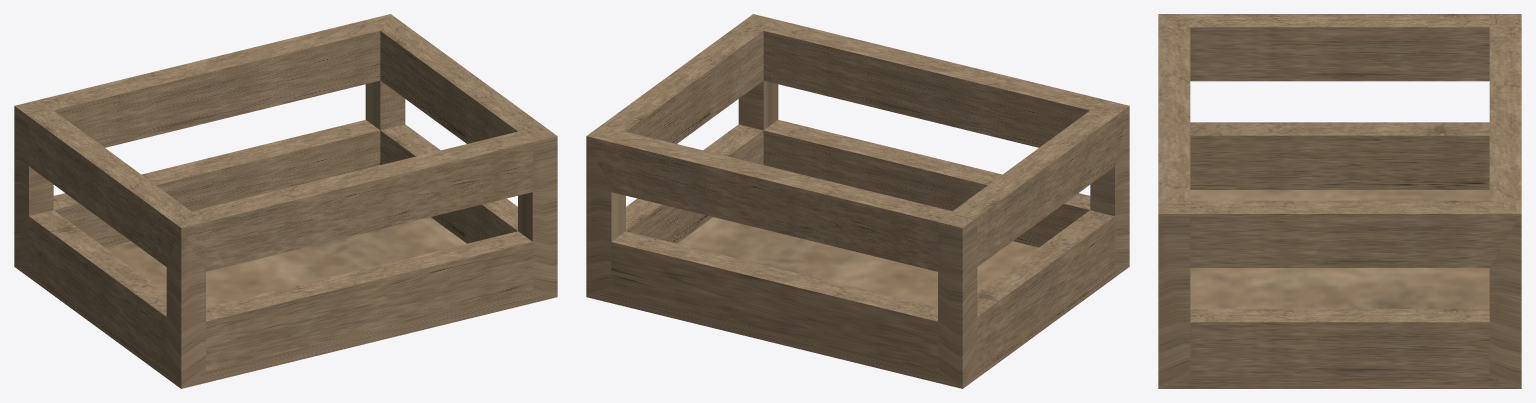
File: empty_box (1).fbx
3 views of the same model, side by side, from view 1: azimuth 30°, elevation 25°; view 2: azimuth 150°, elevation 25°; view 3: azimuth 270°, elevation 25° (orthographic). The views are drawn at different scales.
Visible parts, largest first — view 1: Cube; view 2: Cube; view 3: Cube.
Part boxes in pixels (x1,y1,x2,y2): Cube: (14, 14, 557, 388); Cube: (586, 14, 1129, 388); Cube: (1158, 14, 1521, 388).
Size of the model in its own units: 60.04 by 24.53 by 46.12.
